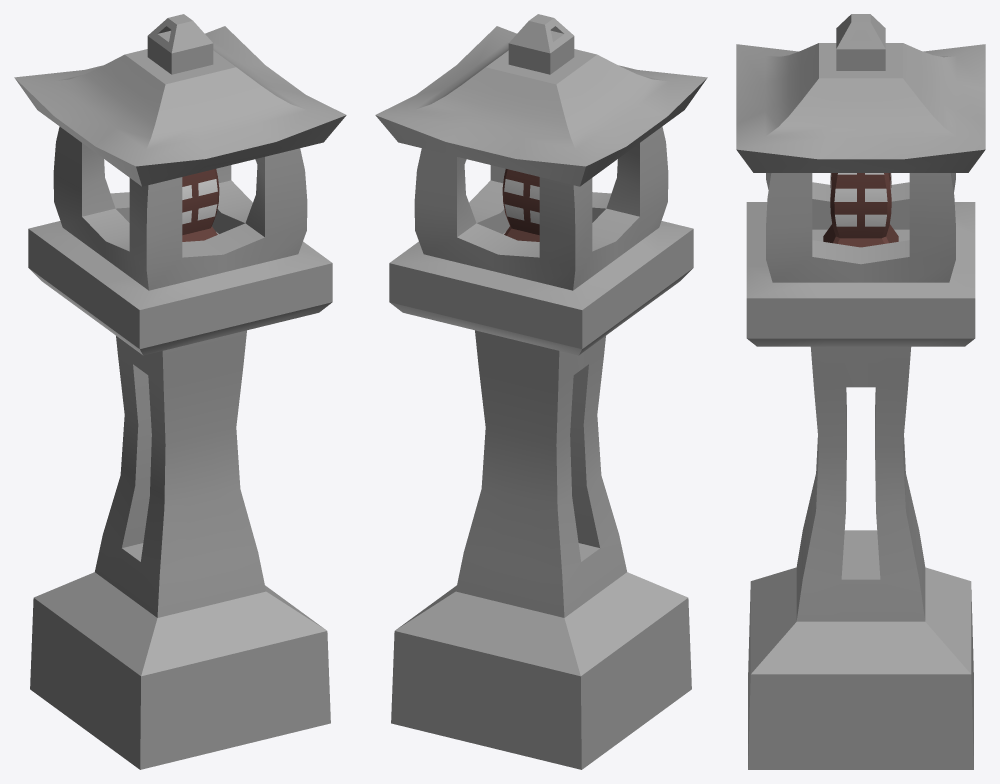
The model's file is japaness_stone_lantern.fbx.
The picture shows the model from 3 angles, left to right: view 1: azimuth 30°, elevation 25°; view 2: azimuth 150°, elevation 25°; view 3: azimuth 270°, elevation 25°; orthographic projection. The views are drawn at different scales.
Parts seen in each view (by area): view 1: japaness_stone_lantern, small_lantern; view 2: japaness_stone_lantern, small_lantern; view 3: japaness_stone_lantern, small_lantern.
Part boxes in pixels (left/top/right/bottom): japaness_stone_lantern: left=14, top=14, right=346, bottom=769; small_lantern: left=182, top=169, right=219, bottom=241; japaness_stone_lantern: left=375, top=14, right=707, bottom=769; small_lantern: left=502, top=169, right=539, bottom=241; japaness_stone_lantern: left=736, top=14, right=985, bottom=769; small_lantern: left=823, top=173, right=898, bottom=247.
Size of what is drawn, in the model's own units: 78.31 by 244 by 78.31.
